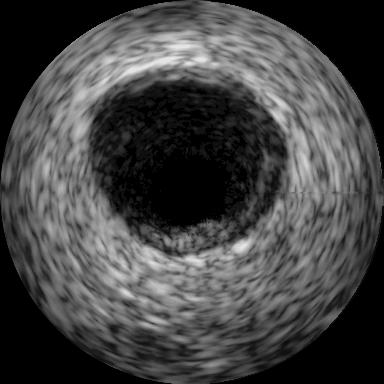Lumen: (143, 145, 232, 226)
